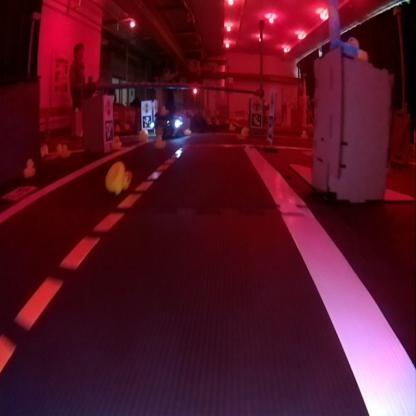Duckie: (106, 161, 130, 193), (22, 160, 35, 174), (155, 136, 165, 148), (61, 144, 70, 156)
Intersection sign: (251, 98, 261, 112)
QR code: (104, 123, 113, 137), (251, 113, 260, 126), (143, 116, 151, 128)
Signal sign: (104, 98, 113, 118), (141, 101, 150, 113)
Traffic light: (192, 88, 198, 94)
